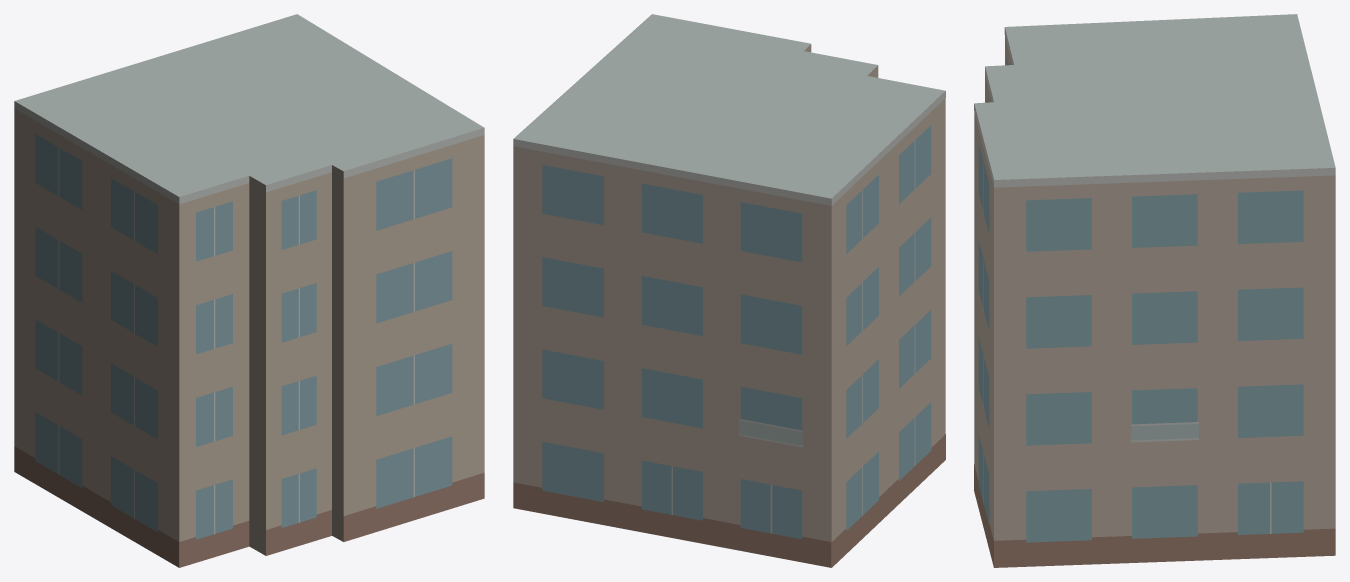
The model's file is survey-upis-32510325.glb.
The picture shows the model from 3 angles, left to right: view 1: azimuth 30°, elevation 25°; view 2: azimuth 150°, elevation 25°; view 3: azimuth 270°, elevation 25°; orthographic projection. The views are drawn at different scales.
Visible parts, largest first — view 1: survey-upis-32510325.tmp; view 2: survey-upis-32510325.tmp; view 3: survey-upis-32510325.tmp.
Part boxes in pixels (x1=…): survey-upis-32510325.tmp: x1=14, y1=14, x2=484, y2=567; survey-upis-32510325.tmp: x1=513, y1=14, x2=945, y2=567; survey-upis-32510325.tmp: x1=974, y1=14, x2=1335, y2=567.
Bounding box in the file's own units: 11.51 × 12.52 × 10.59.
